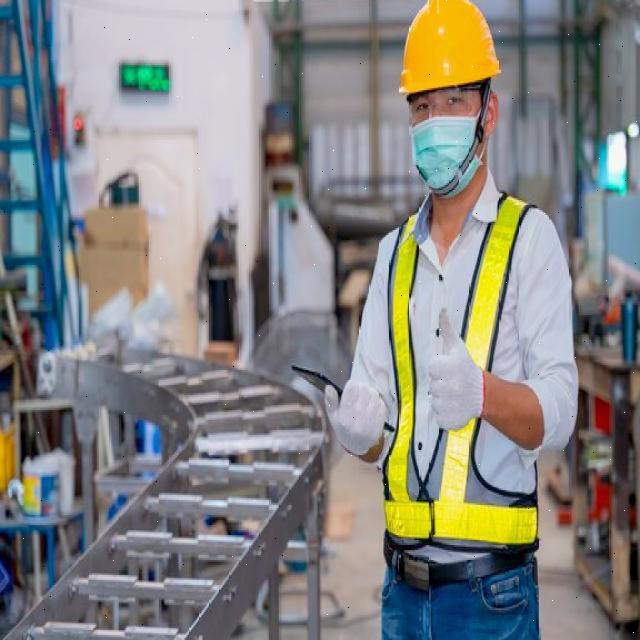Gloves: (428, 309, 484, 431), (325, 380, 388, 456)
Hardhat: (400, 0, 500, 94)
Mask: (411, 117, 477, 190)
No Earmuff: (481, 88, 502, 144)
No Overall Suit: (384, 215, 537, 545), (462, 195, 529, 369)
